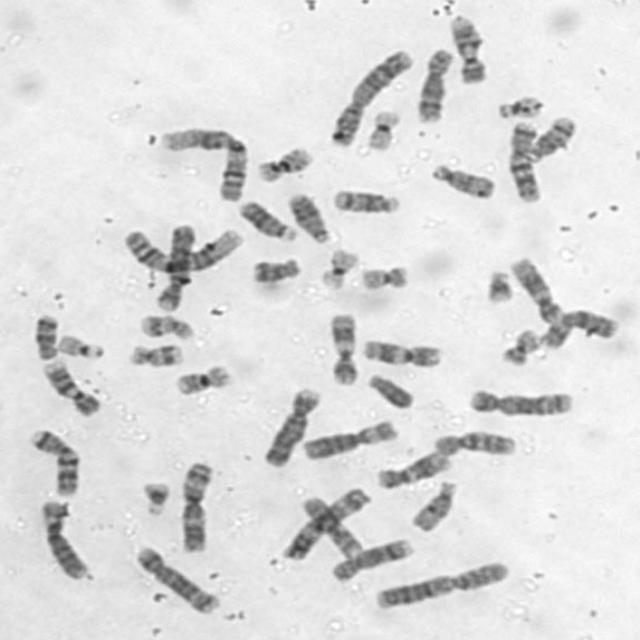A1: (153, 122, 251, 202), (116, 222, 245, 275)
A2: (325, 45, 414, 148), (368, 557, 512, 611)
A3: (279, 484, 372, 562), (174, 456, 216, 553)
B4: (259, 382, 324, 468), (151, 218, 200, 314)
B5: (130, 542, 222, 615), (465, 386, 573, 417)
C10: (296, 491, 365, 560), (430, 427, 519, 457)
C11: (324, 310, 360, 386), (358, 336, 442, 368)
C12: (507, 254, 565, 325), (371, 444, 453, 490)
C6: (34, 496, 92, 581), (296, 416, 400, 461)
C7: (24, 423, 84, 499), (502, 117, 542, 203)
C8: (328, 534, 416, 583), (413, 44, 456, 125)
C9: (38, 356, 104, 417), (445, 10, 489, 85)
D13: (234, 196, 298, 242), (282, 187, 332, 244)
D14: (520, 112, 578, 164), (326, 185, 402, 217)
D15: (406, 477, 459, 533), (429, 160, 498, 200)
E16: (252, 142, 314, 184), (171, 361, 233, 397)
E17: (136, 310, 198, 342), (123, 341, 184, 368)
E18: (248, 255, 304, 284), (29, 311, 60, 360)
F19: (314, 246, 360, 292), (360, 104, 403, 152)
F20: (498, 325, 542, 367), (355, 262, 411, 291)
G21: (480, 265, 517, 305), (136, 478, 172, 518)
G22: (54, 330, 107, 361), (494, 93, 545, 119)
X: (534, 304, 622, 351)
Y: (363, 371, 414, 411)
